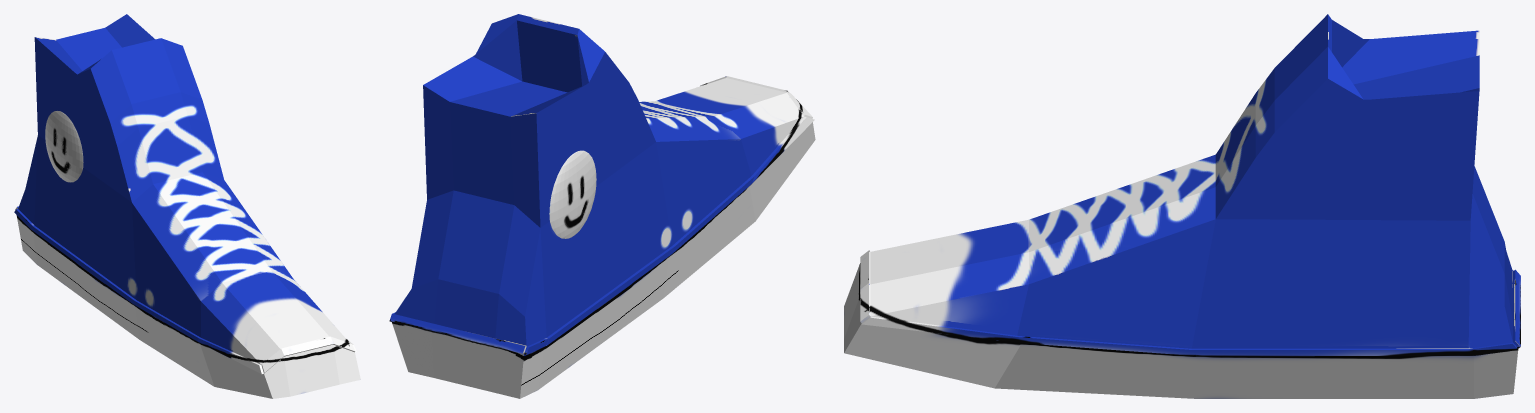
File: converse.fbx
3 renders of one model, left to right at view 1: azimuth 30°, elevation 25°; view 2: azimuth 150°, elevation 25°; view 3: azimuth 270°, elevation 25°, orthographic. The views are drawn at different scales.
Visible parts, largest first — view 1: Cube; view 2: Cube; view 3: Cube.
Part boxes in pixels (x1=…): Cube: x1=14, y1=14, x2=360, y2=398; Cube: x1=389, y1=14, x2=815, y2=398; Cube: x1=844, y1=14, x2=1520, y2=398.
Bounding box in the file's own units: 126 × 270 × 489.
